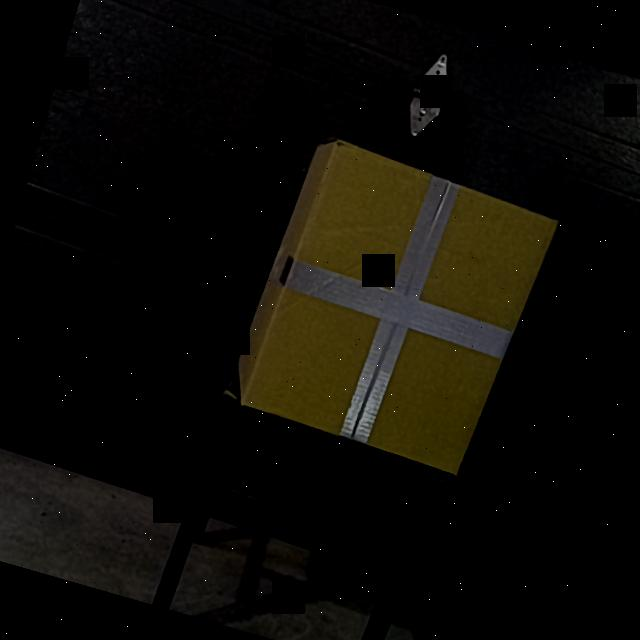box: (240, 142, 544, 474)
